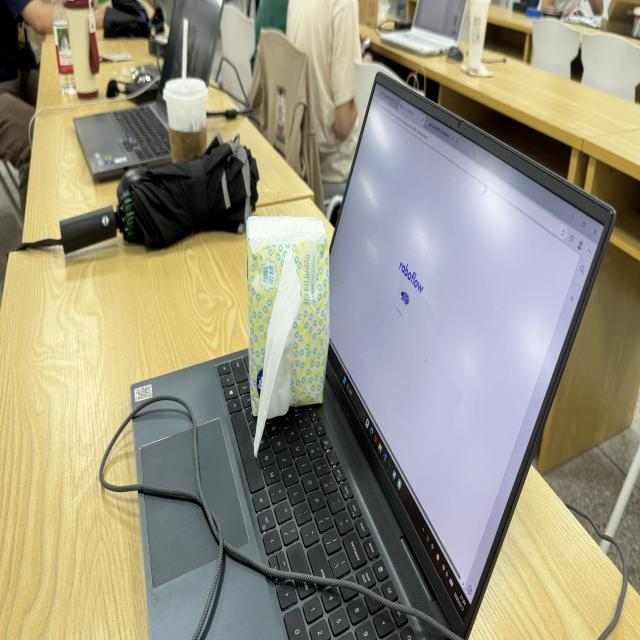tissue: (247, 217, 329, 454), (255, 254, 301, 454)
